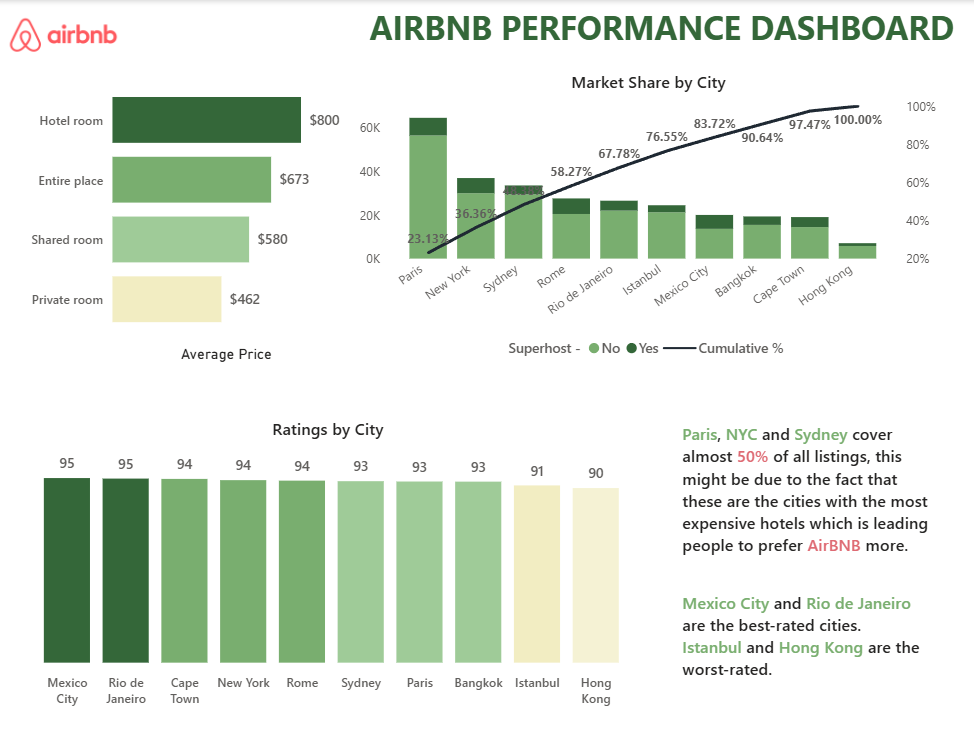

What the dashboard file says about the page in this screenshot:
{"tool":"powerbi","page":{"name":"Ratings","canvas":[960,720],"ordinal":1},"visuals":[{"type":"textbox","box":[342.4,0,617.5,58.7],"z":0},{"type":"lineStackedColumnComboChart","title":"Market Share by City","fields":{"Category":["Listings.city"],"Y":["Listings.No Superhost Listings","Listings.Superhost Listings"],"Y2":["Listings.Cumulative %"]},"box":[351,68.5,574.7,291],"z":6000},{"type":"image","box":[0,0,132.1,68.5],"z":9000},{"type":"columnChart","title":"Ratings by City","fields":{"Category":["Listings.city"],"Y":["Listings.Avg Rating"]},"box":[11,408.4,627.3,291],"z":10001},{"type":"textbox","box":[666.4,408.4,259.2,291],"z":10002},{"type":"barChart","fields":{"Y":["Listings.Avg Price"],"Category":["Listings.room_type"]},"box":[28.1,58.7,314.3,300.8],"z":10003}]}

Visuals, with their boxes in screenshot pixels (x1, y1, x2, y2), scaled from the page's 960x720 canvas onto the 974x732 screenshot:
textbox: detection(347, 0, 973, 60)
"Market Share by City" lineStackedColumnComboChart: detection(356, 70, 939, 365)
image: detection(0, 0, 134, 70)
"Ratings by City" columnChart: detection(11, 415, 648, 711)
textbox: detection(676, 415, 939, 711)
barChart - Listings.Avg Price x Listings.room_type: detection(29, 60, 347, 365)
